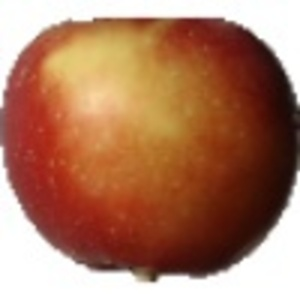maçã braeburn: (1, 13, 300, 274)
